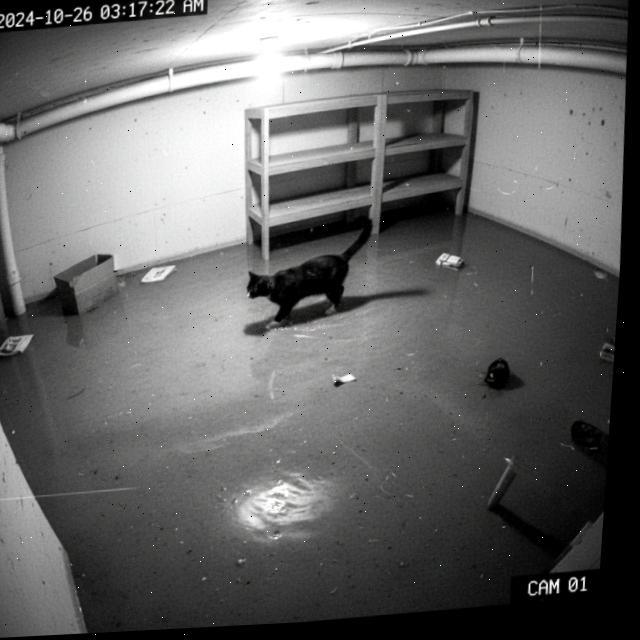cat: (226, 211, 387, 347)
